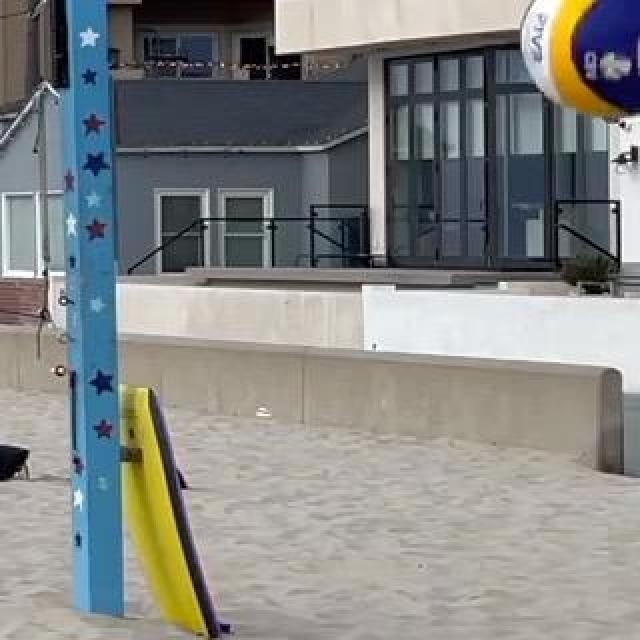volleyball: (522, 0, 640, 120)
